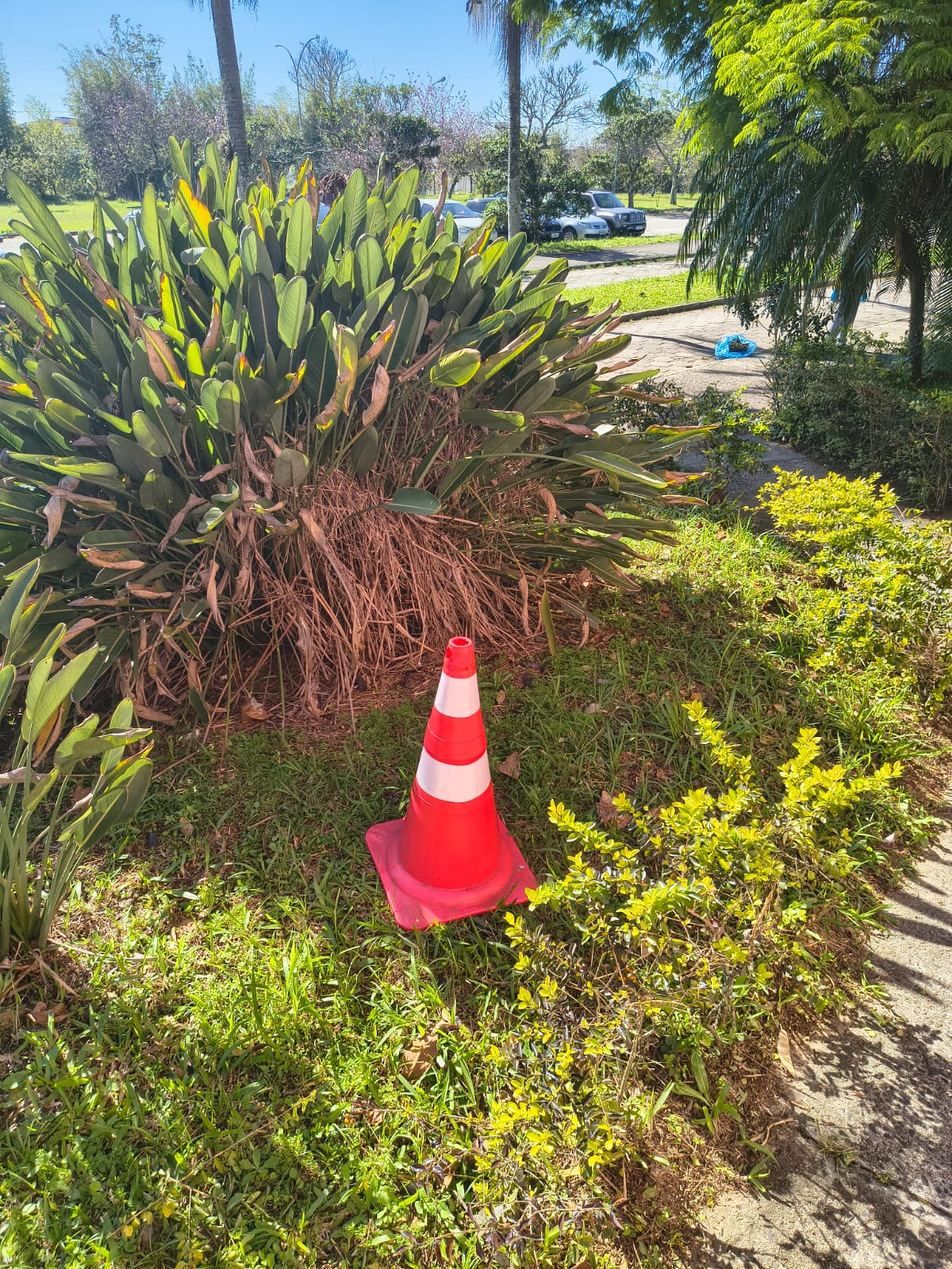cone: (360, 630, 544, 931)
